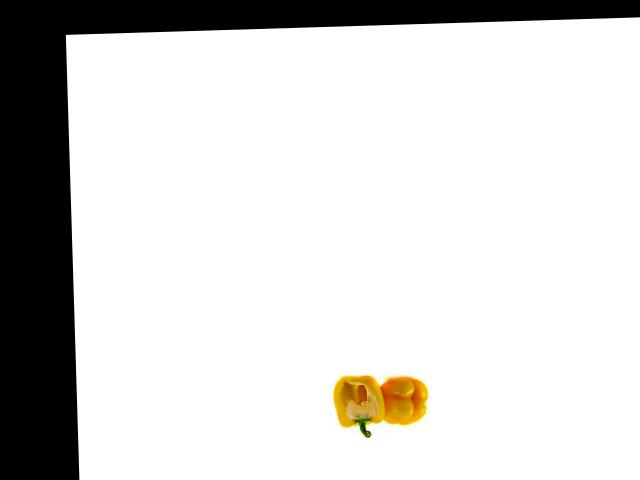bell_pepper: (329, 362, 394, 439)
